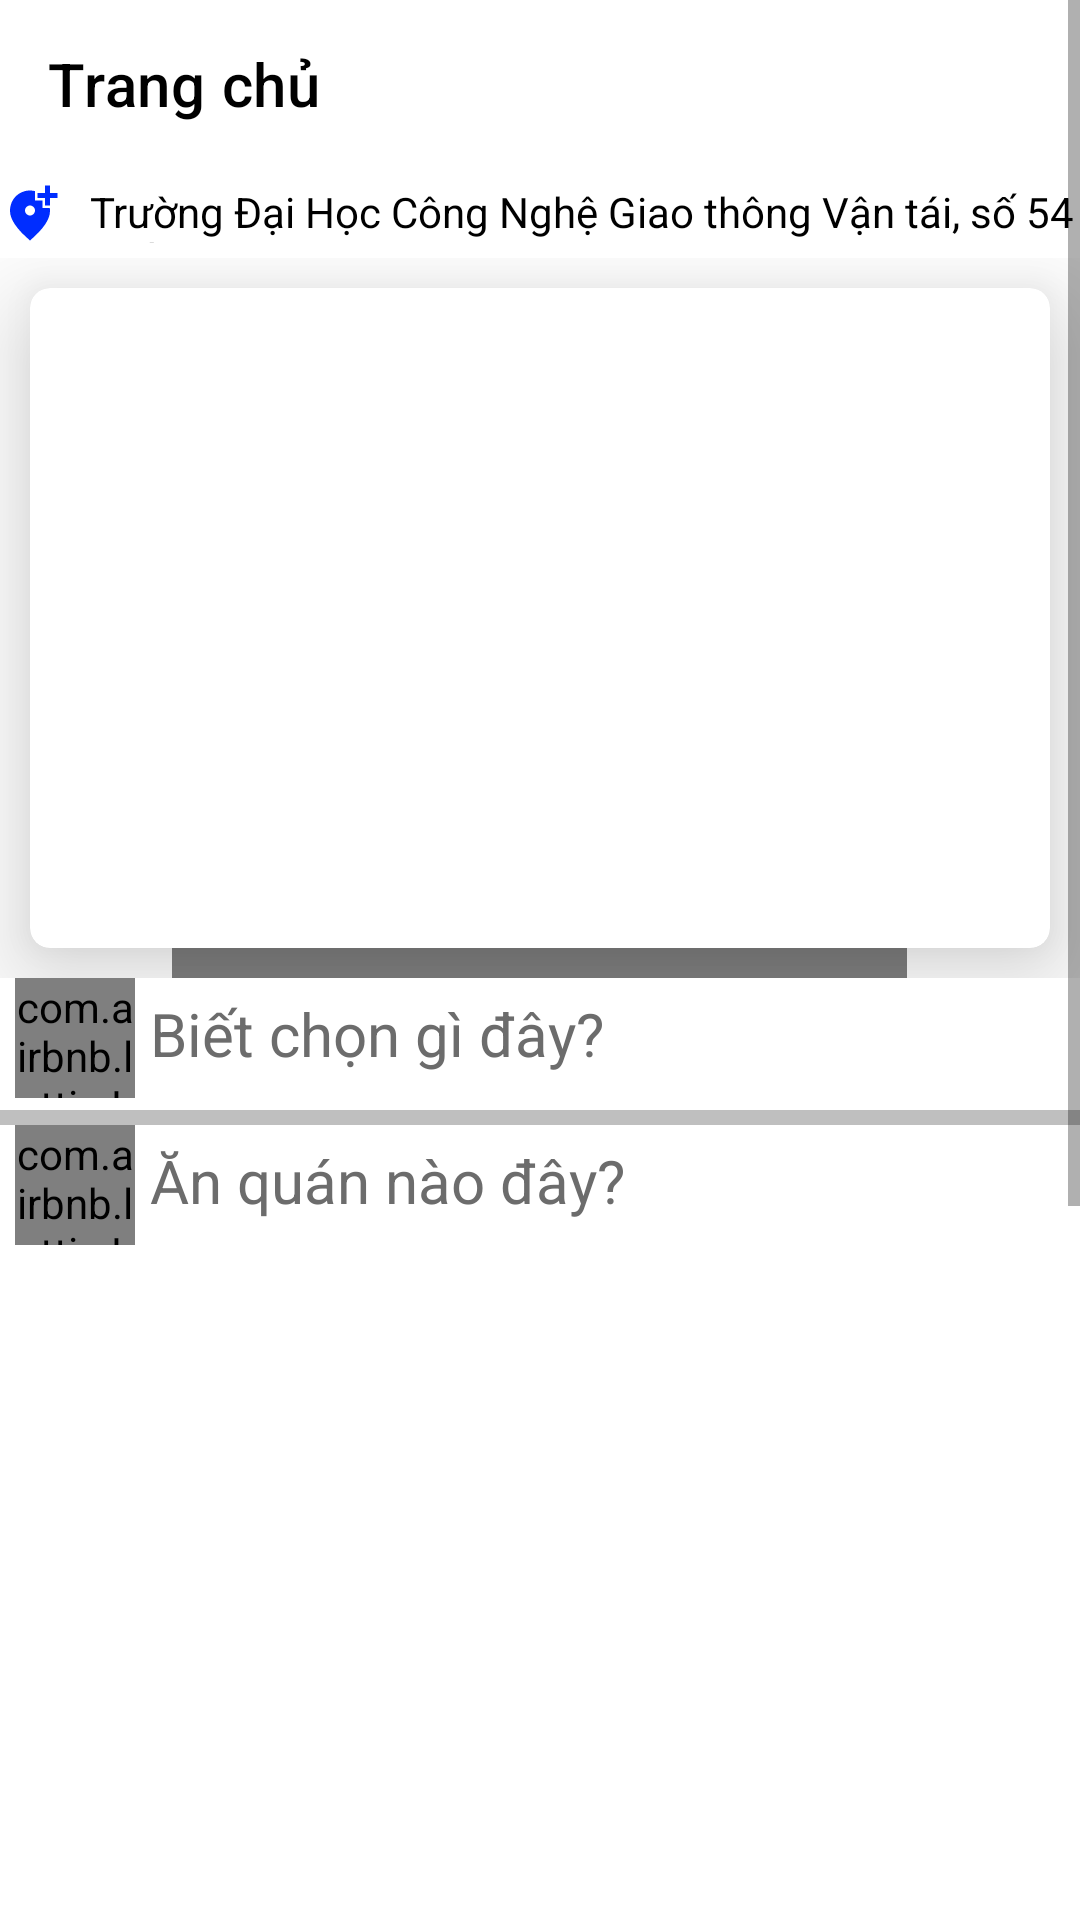

Screen size 1080×1920. Icon name, then its box in pixels as (x1, y1, x2, y2):
add location: (10, 185, 58, 241)
